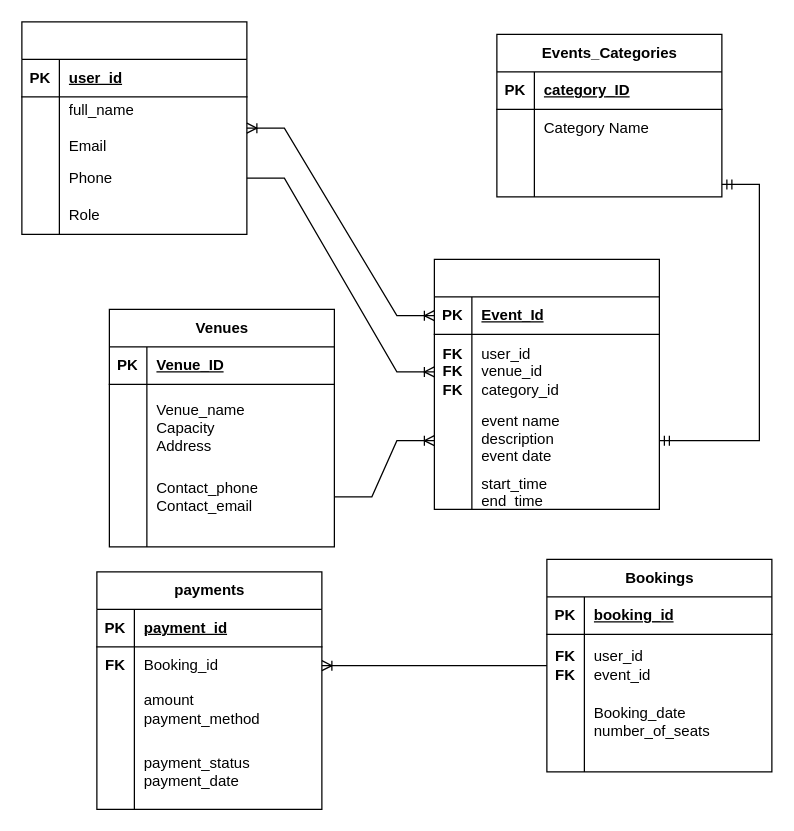
This 794x831 diagram has some shape labels left out. Each missing label, with the box of its shape:
Events: (433, 258, 659, 509)
Users: (21, 21, 247, 234)
